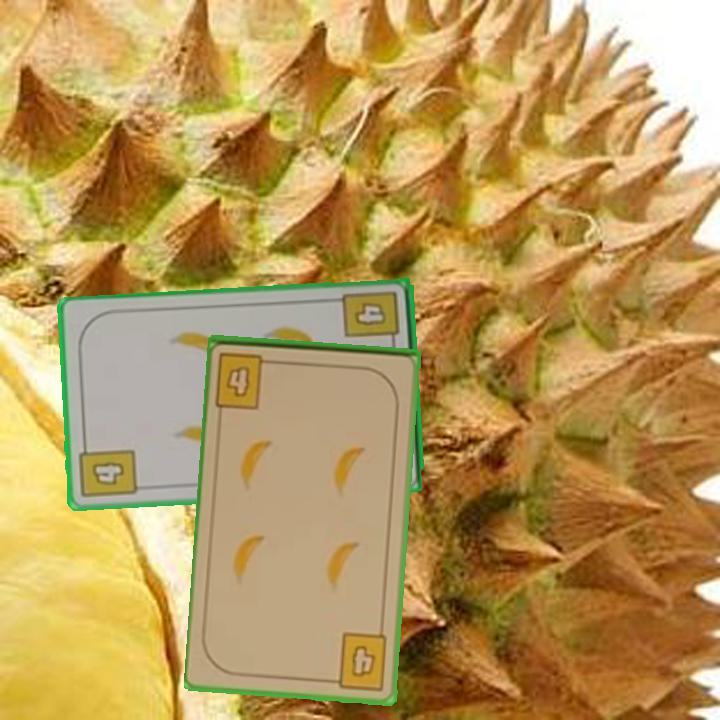4b: (212, 348, 281, 412), (76, 437, 140, 502), (325, 629, 390, 693), (340, 287, 403, 353)
